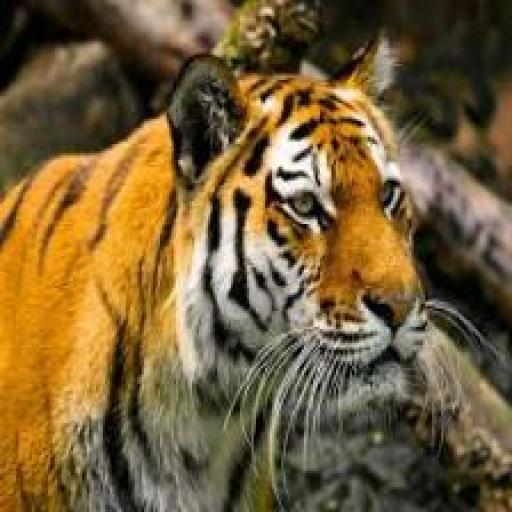Tiger: (0, 27, 455, 512)
